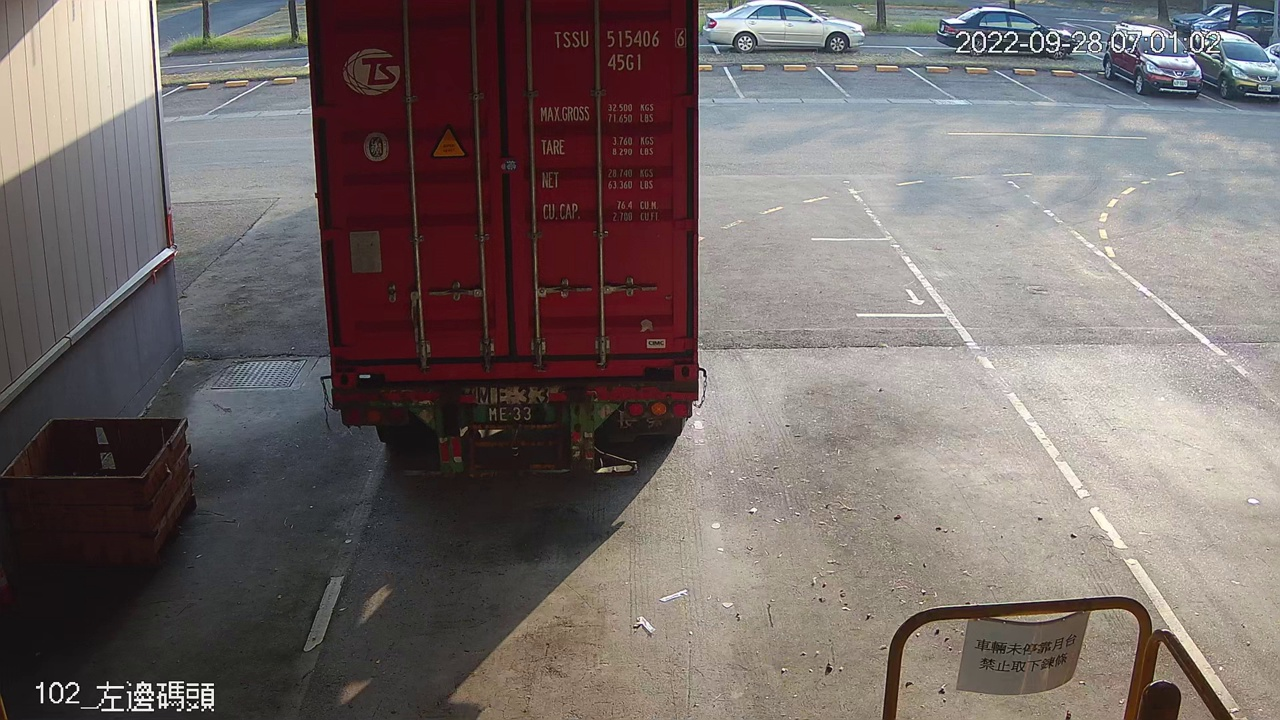container: (546, 22, 693, 77)
